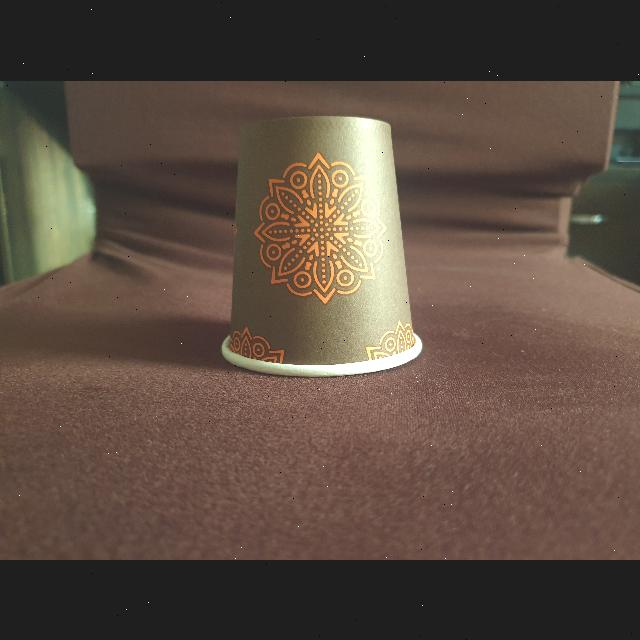trash: (216, 108, 428, 386)
